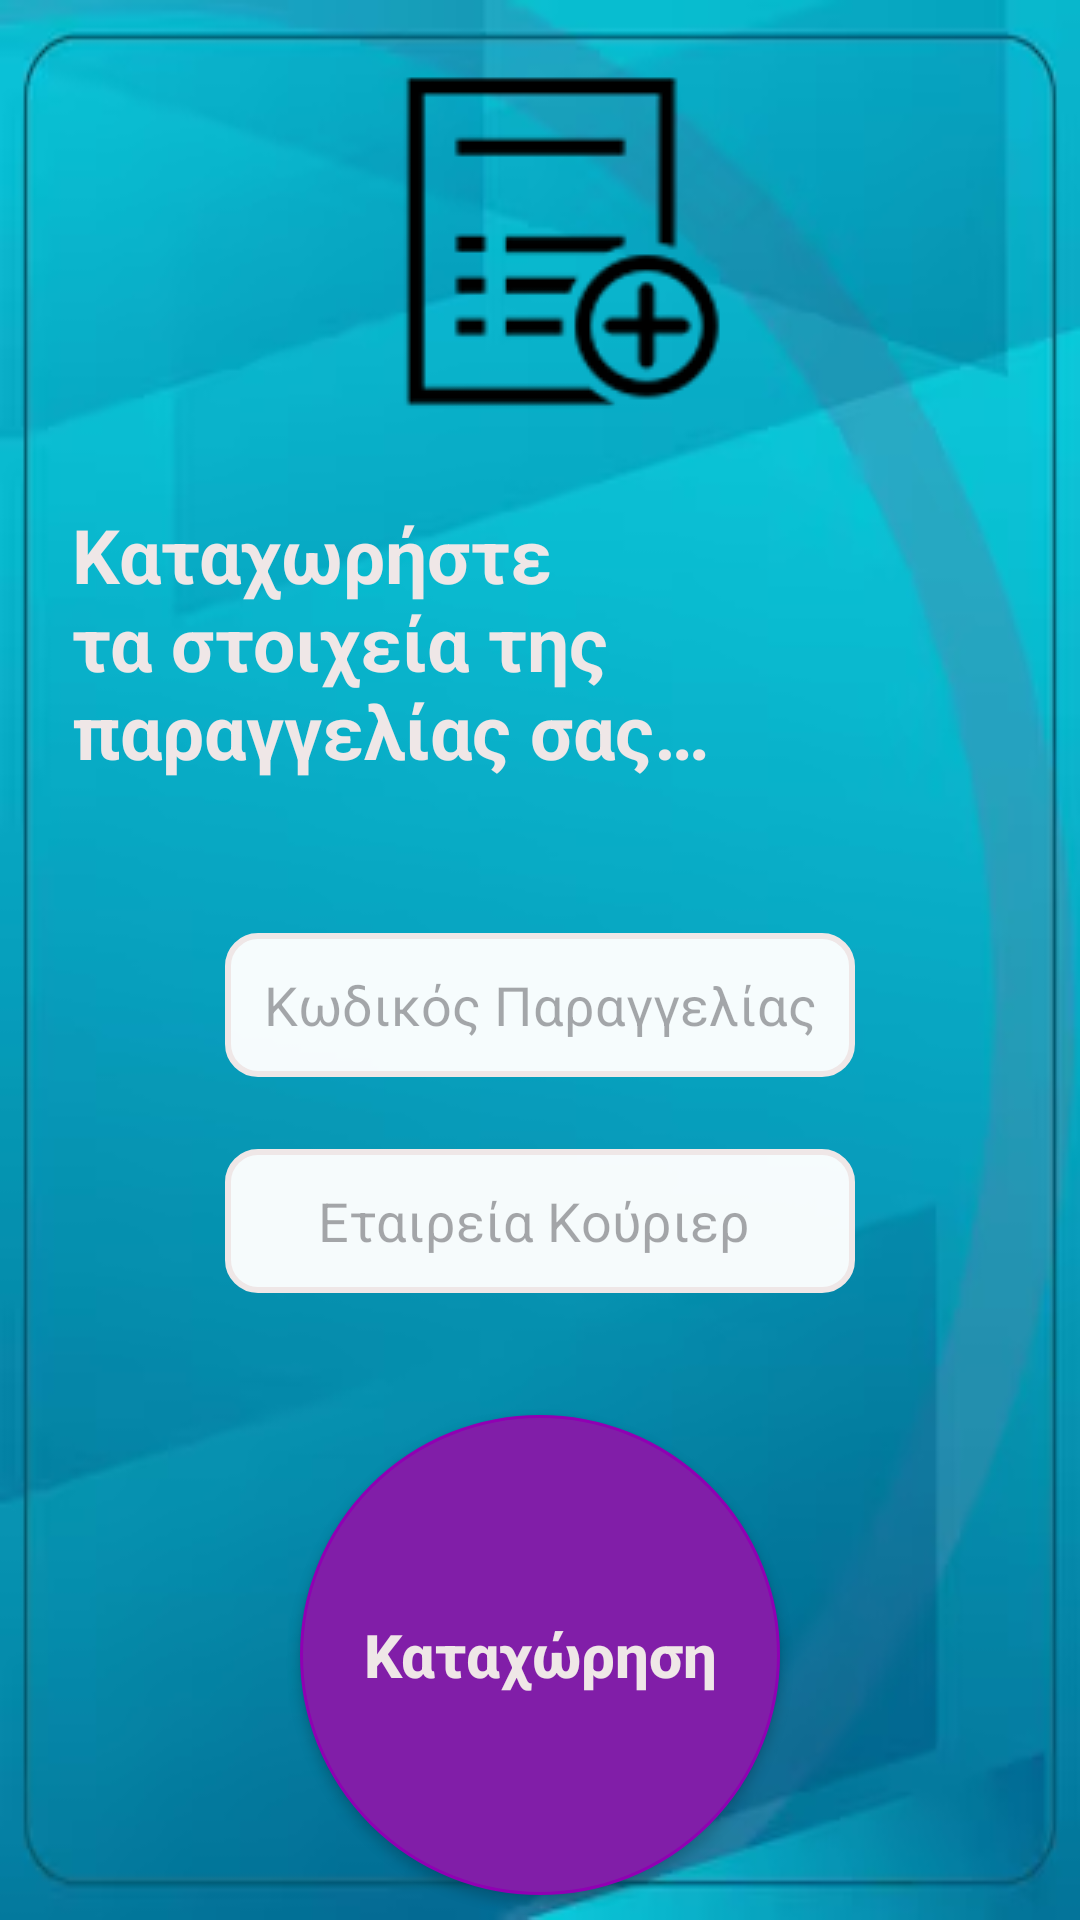

Named icons in this screenshot (1080×1920) and their centers, [x,y]:
order: [566,240]
